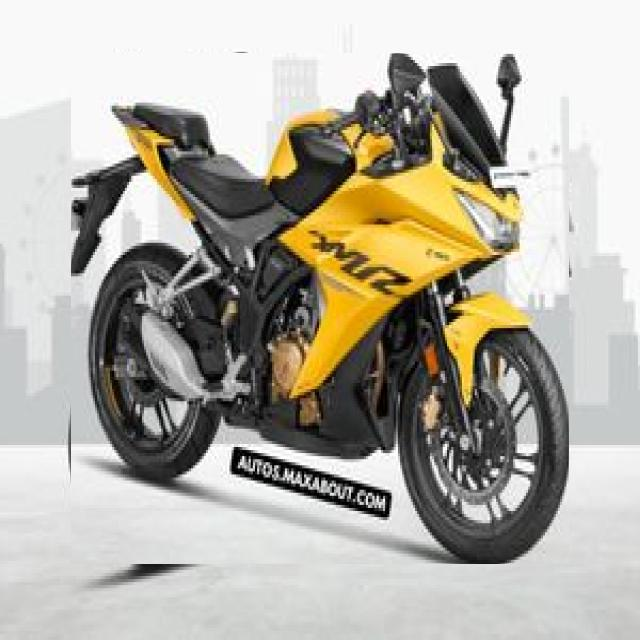motorcycle: (71, 53, 568, 564)
